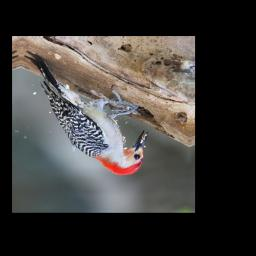Woodpecker: (20, 52, 152, 176)
